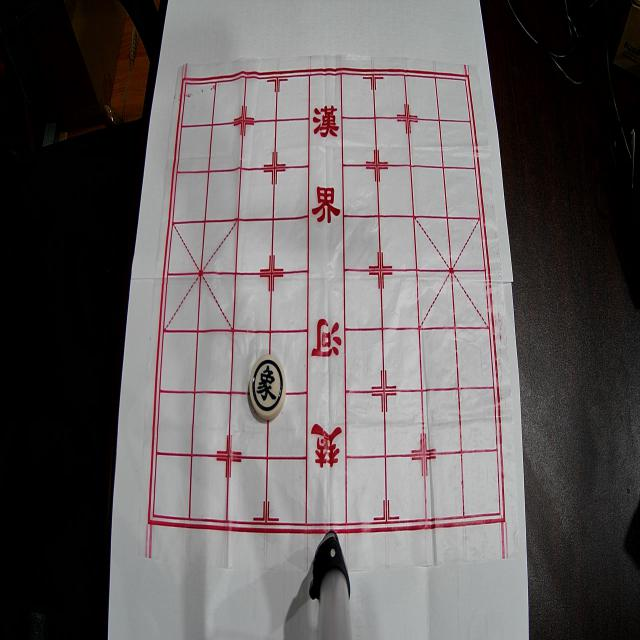black-elephant: (249, 355, 286, 420)
